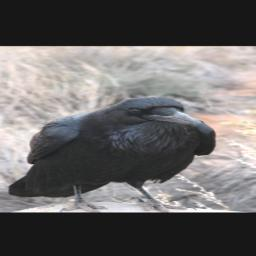Crow: (4, 96, 220, 212)
